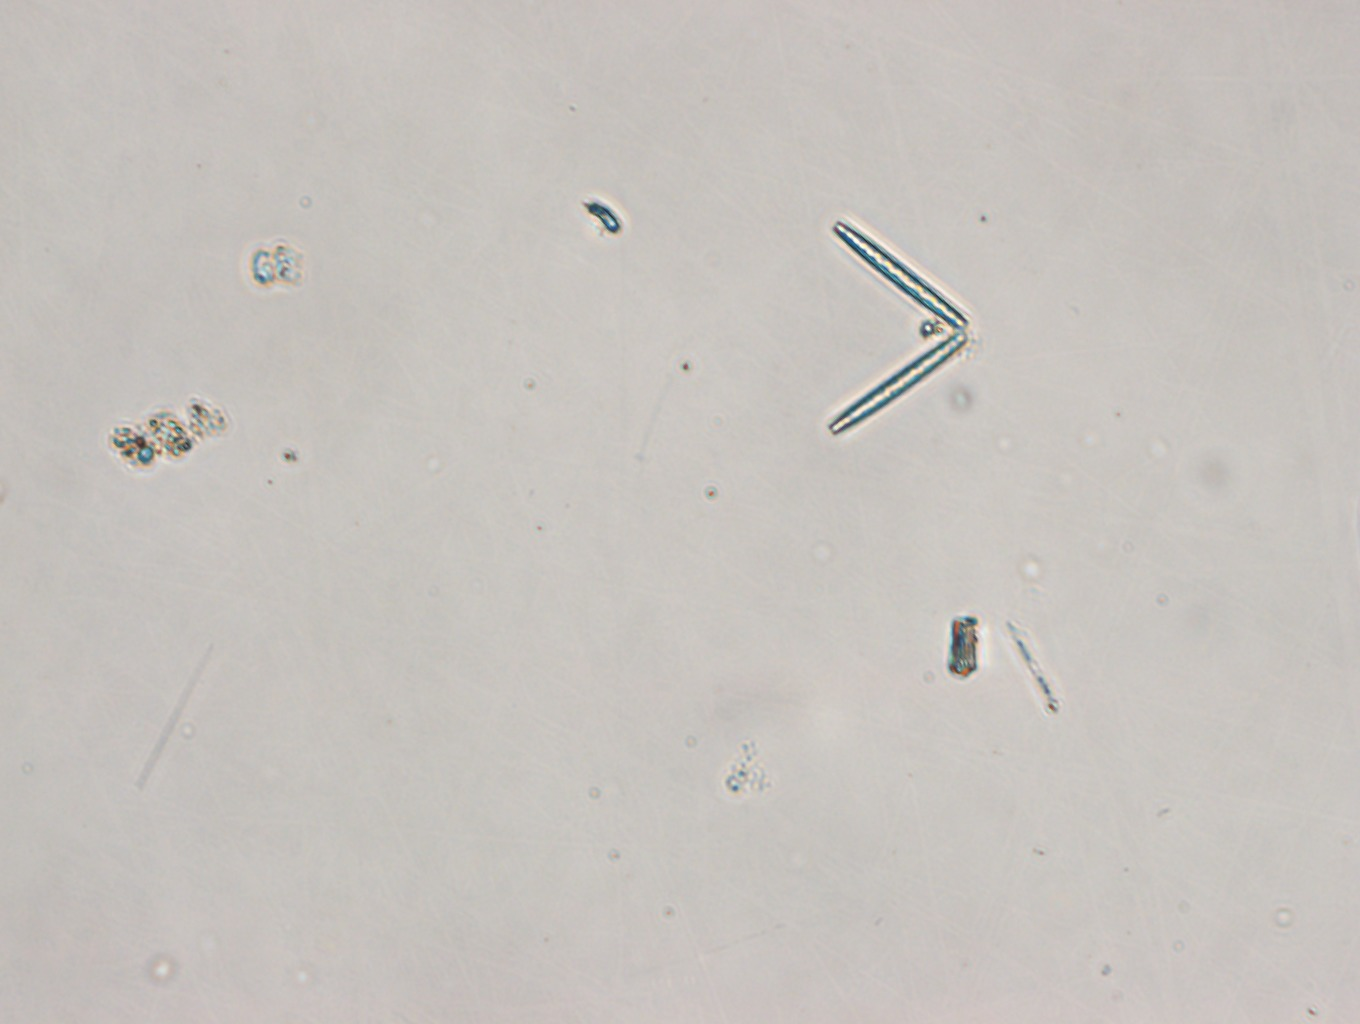thalassionema nitzschioides: (828, 218, 969, 436)
